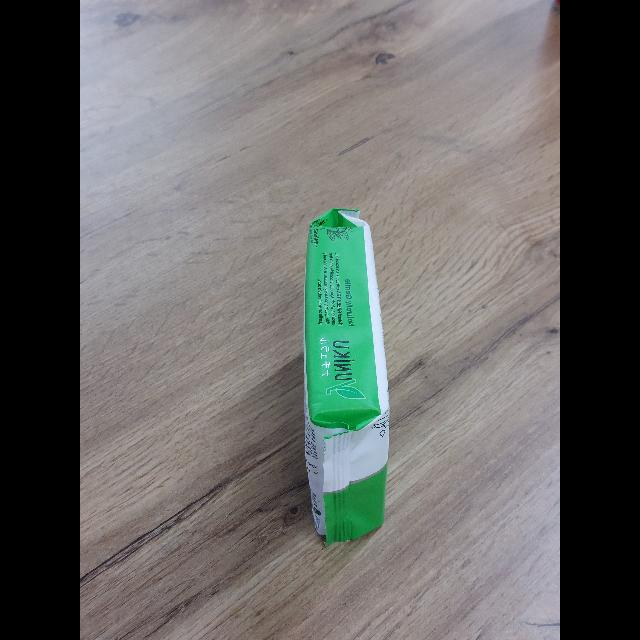khan_giay: (303, 209, 390, 548)
